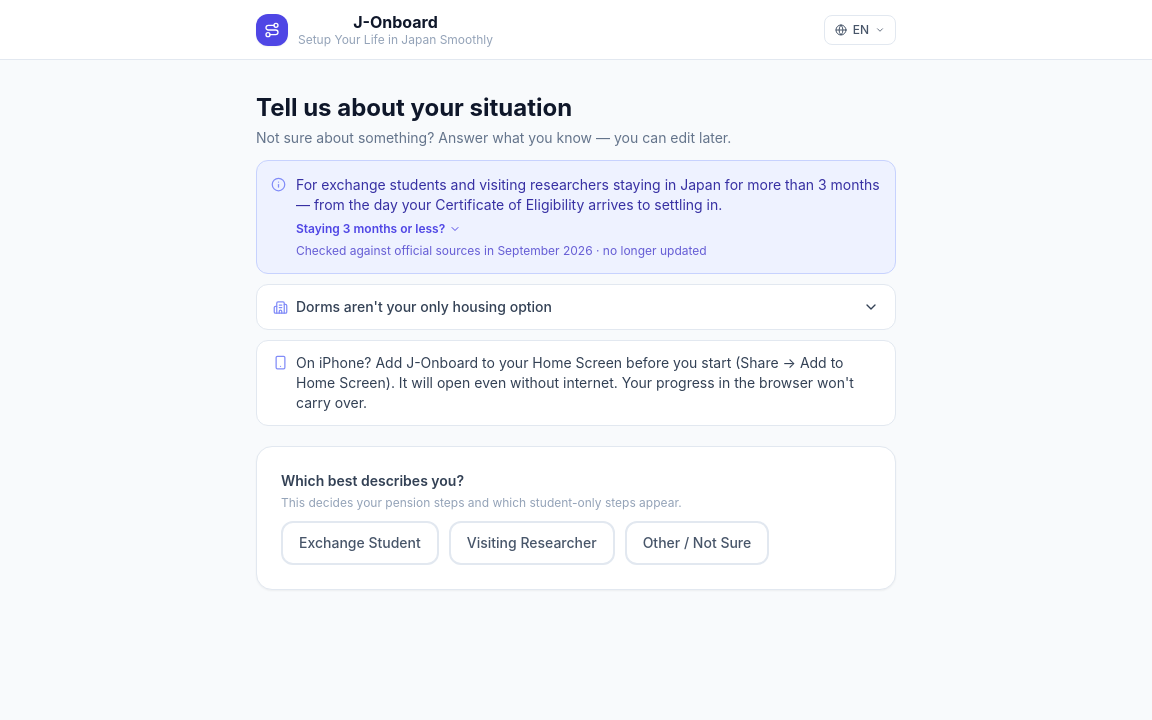
it: app › sends "Other / Not Sure" users to their sponsor instead of showing the form
The width and height of the screenshot is (1152, 720).
Click the button "Other / Not Sure".
click(697, 543)  # box [625, 521, 769, 565]
(page scrolled)
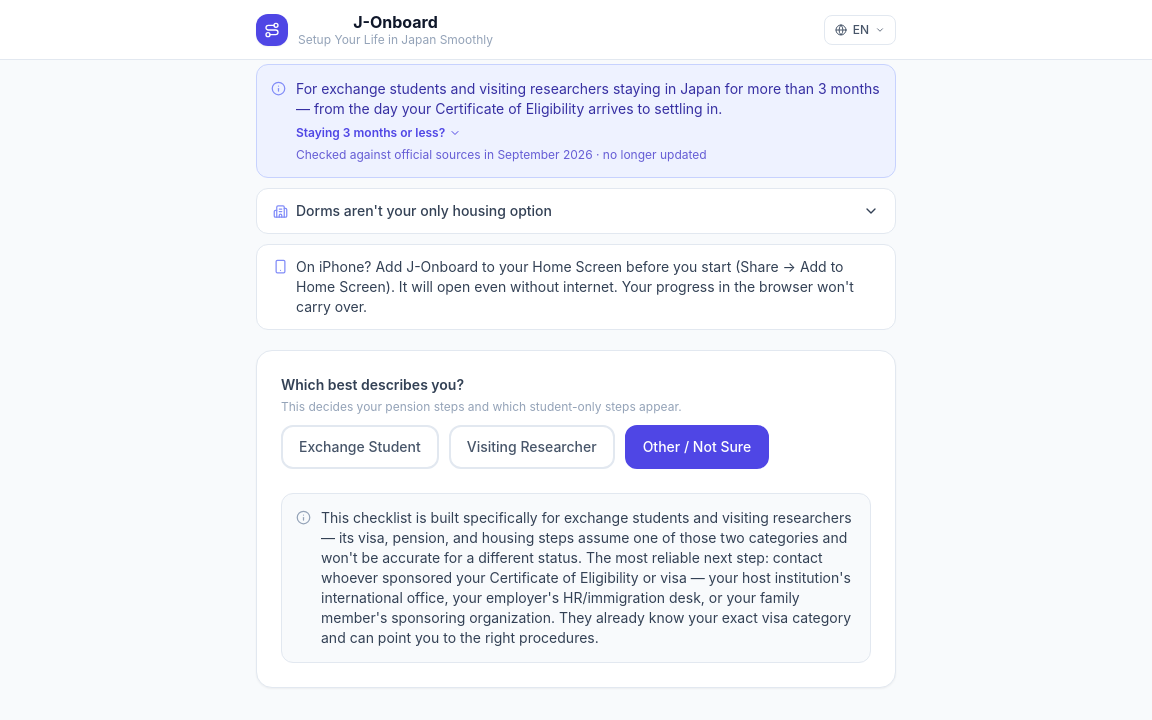
Expected: the text "contact whoever sponsored your Certificate of Eligibility" is shown, [321, 509, 852, 646]
